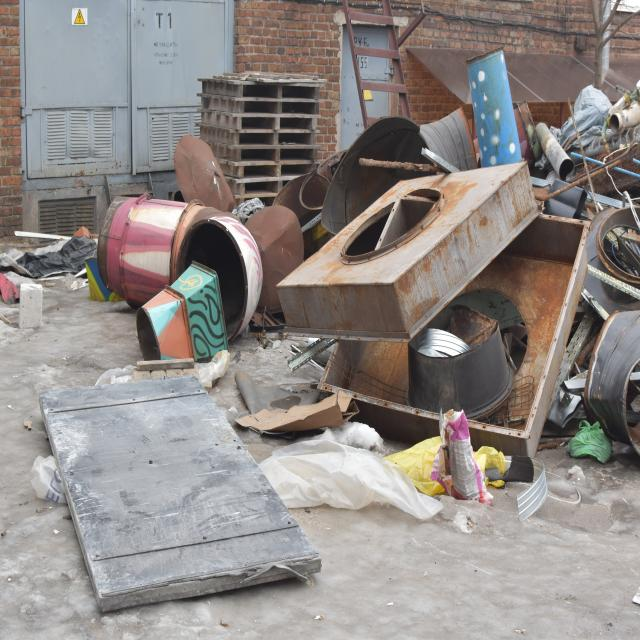entulho: (310, 200, 602, 458), (255, 121, 540, 346), (37, 390, 331, 594), (96, 190, 266, 354), (248, 414, 446, 516), (194, 70, 315, 208), (235, 362, 357, 449), (590, 293, 637, 457), (439, 408, 494, 508), (547, 172, 631, 230), (172, 135, 228, 217), (1, 234, 97, 280), (557, 85, 615, 155), (599, 203, 640, 289), (532, 118, 577, 178), (286, 335, 340, 373), (570, 420, 612, 465), (613, 104, 640, 129)
